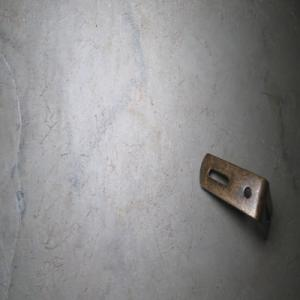MetalPart: (198, 149, 274, 241)
